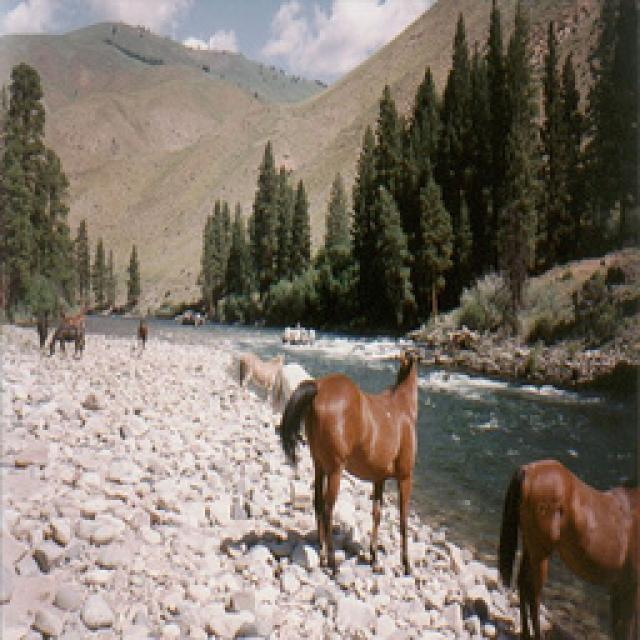Horse: (277, 339, 428, 583), (492, 452, 640, 640)
